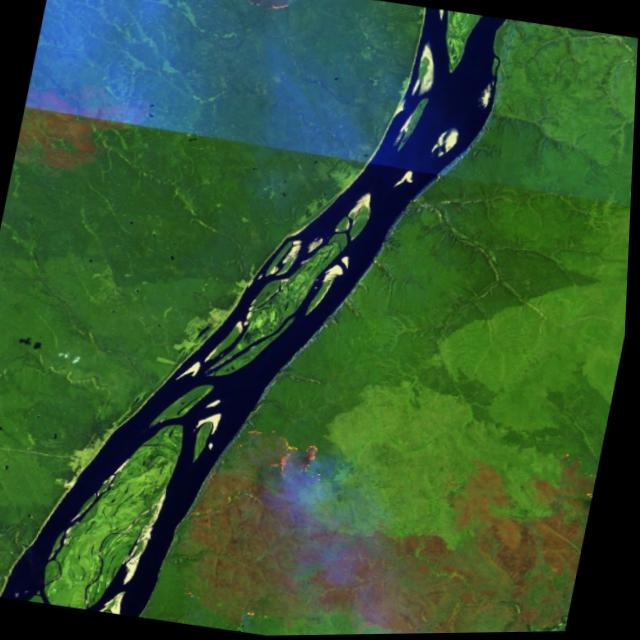fire: (239, 419, 335, 483), (227, 0, 321, 28)
